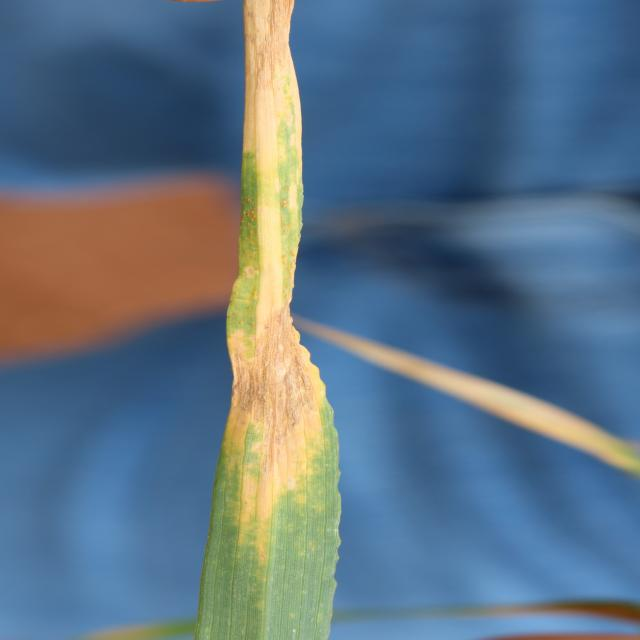Septoria: (192, 1, 344, 638)
